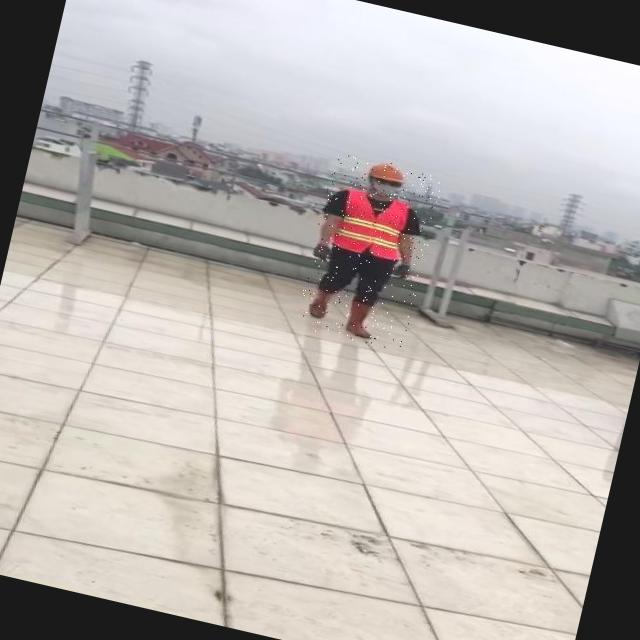boots: (342, 298, 382, 340), (304, 285, 332, 319)
gloves: (306, 236, 334, 272), (388, 254, 412, 289)
helmet: (364, 156, 409, 184)
vest: (331, 187, 415, 262)
